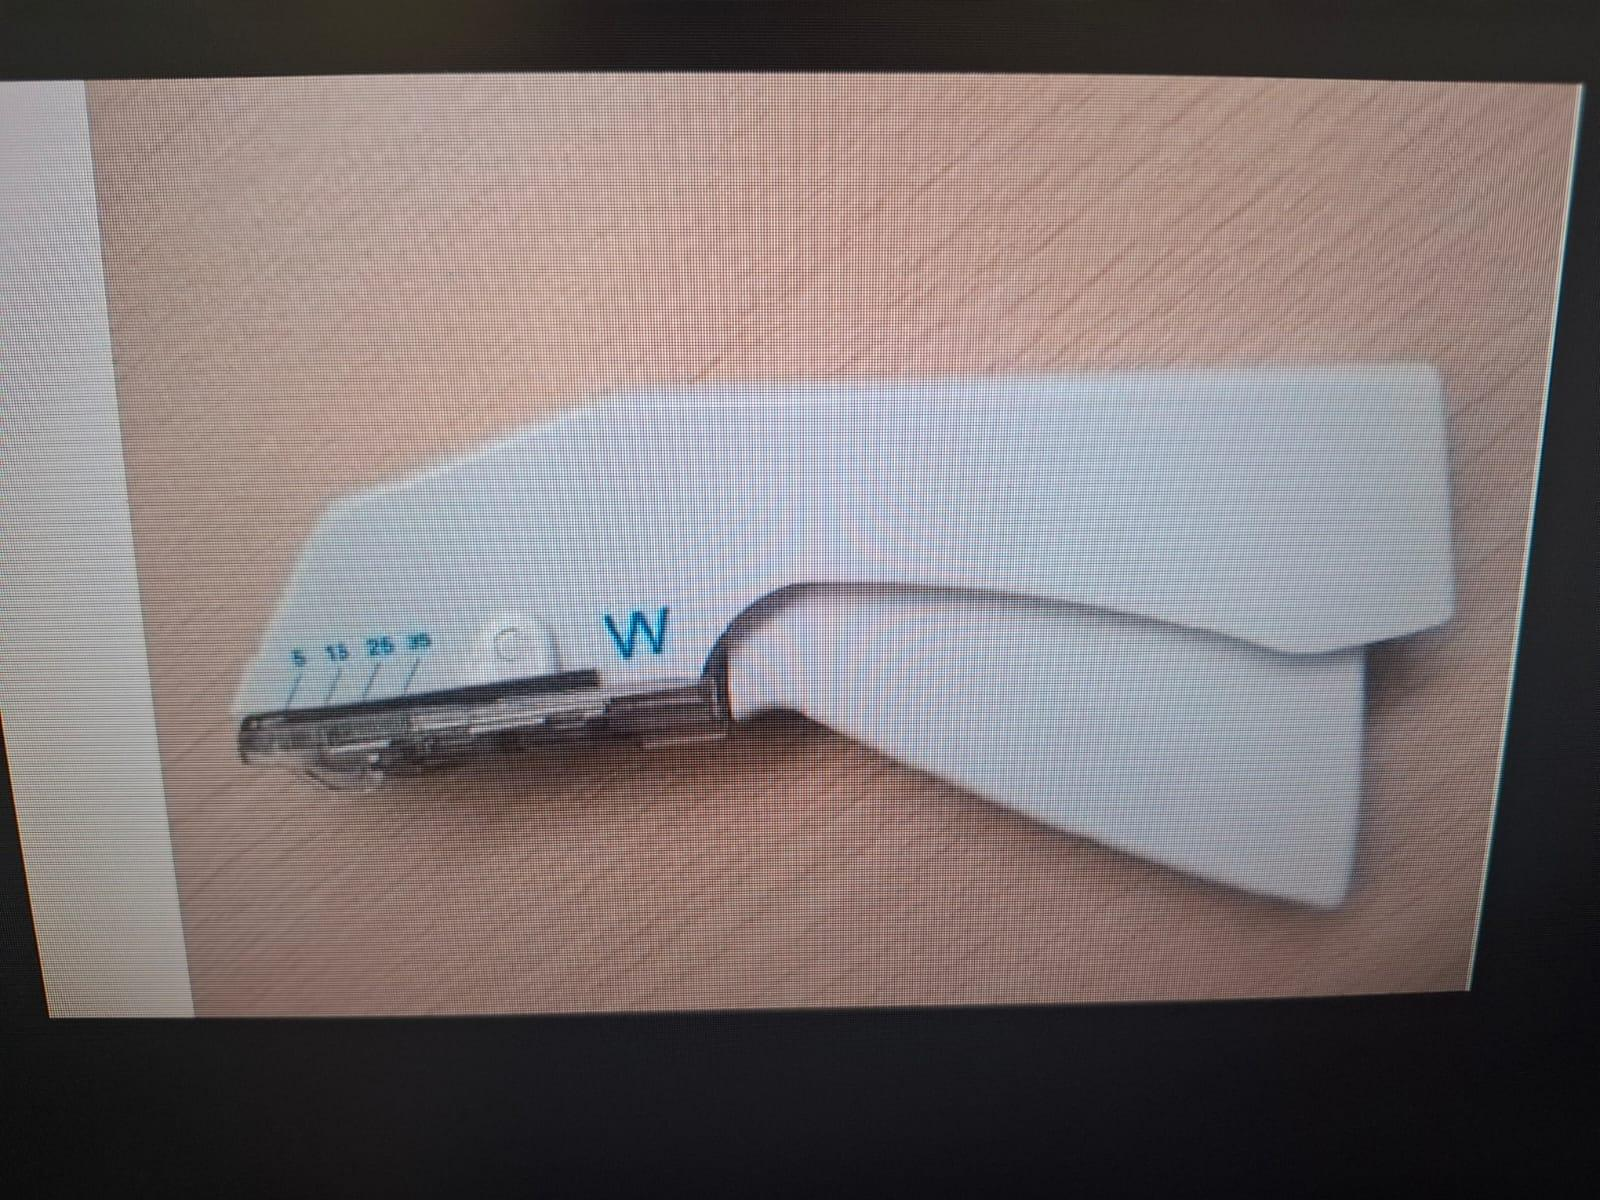Skin Stapler: (224, 350, 1482, 916)
